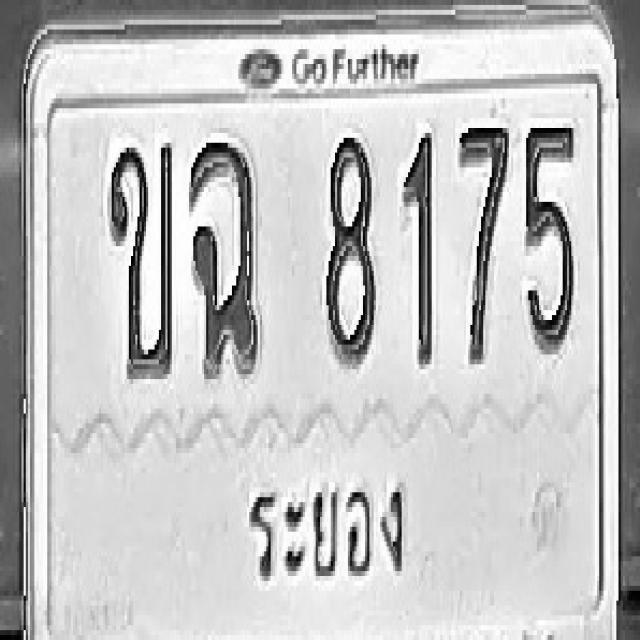1: (400, 126, 432, 367)
11KhorKhai: (108, 138, 173, 379)
18ChorChing: (188, 138, 259, 379)
5: (524, 123, 573, 355)
7: (457, 120, 509, 362)
8: (325, 133, 375, 364)
Rayong: (237, 464, 417, 600)
